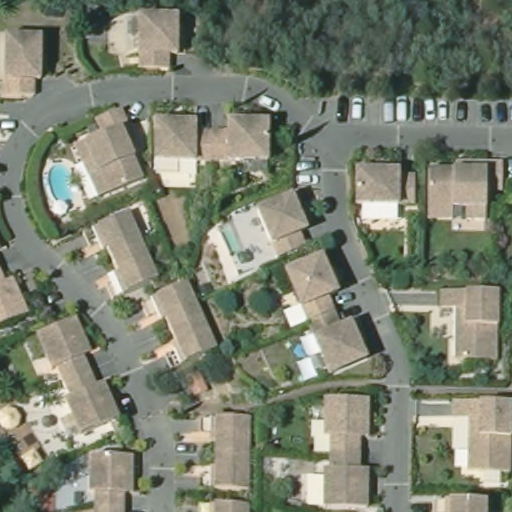pool: (45, 160, 84, 209), (219, 218, 249, 260)
